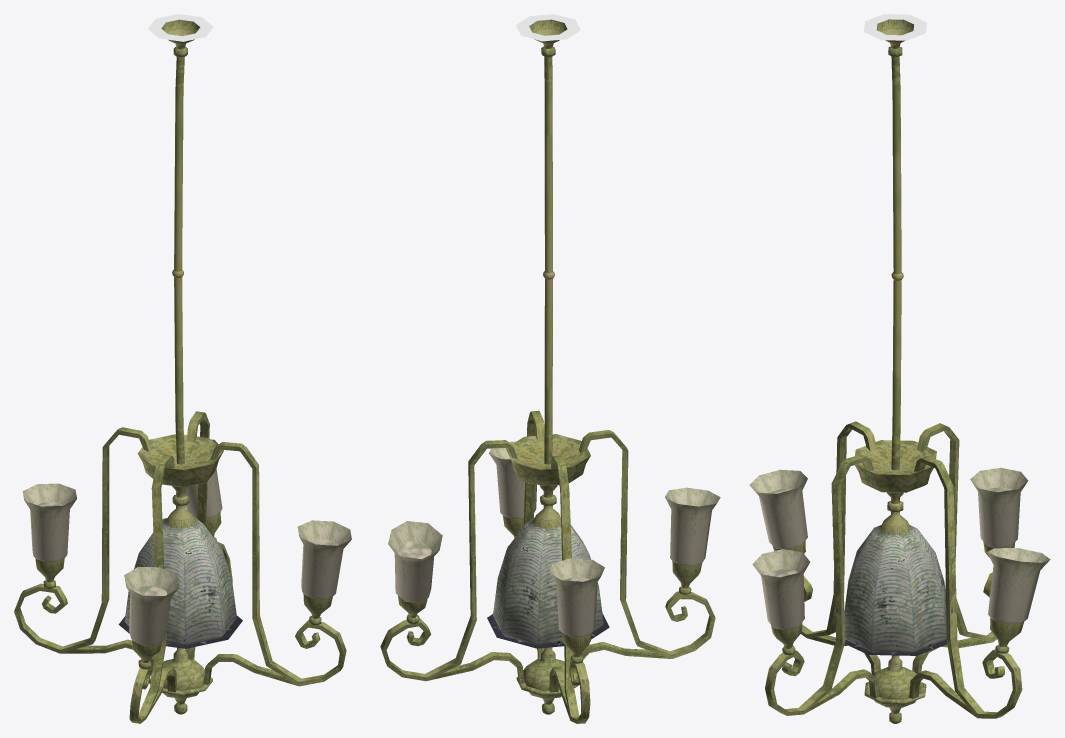
The model's file is lampara.obj.
3 views of the same model, side by side, from view 1: azimuth 30°, elevation 25°; view 2: azimuth 150°, elevation 25°; view 3: azimuth 270°, elevation 25° (orthographic).
Visible parts, largest first — view 1: lampara; view 2: lampara; view 3: lampara.
Part boxes in pixels (x1,y1,x2,y2): lampara: (14, 14, 351, 723); lampara: (380, 14, 720, 723); lampara: (749, 14, 1050, 723).
Size of the model in its own units: 57.48 by 168 by 66.04.
3 materials, 2 textured.
